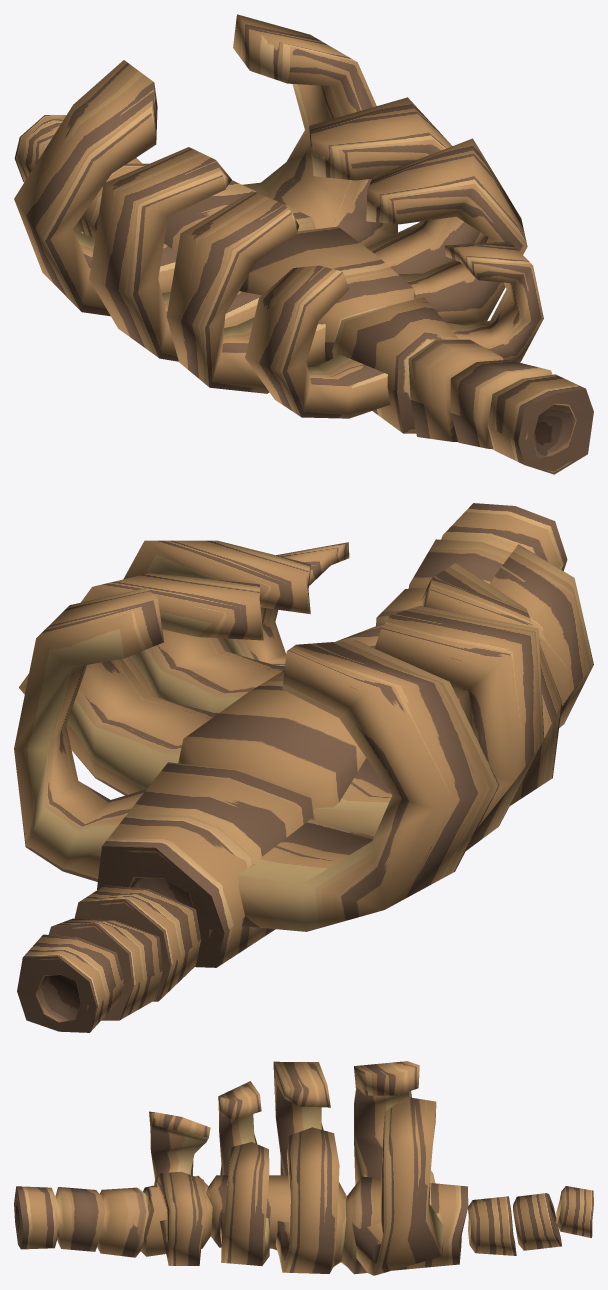
Rendered from SM_PROP_skeleton_ribs_dungeon_01.fbx.
3 renders of one model, top to bottom at view 1: azimuth 30°, elevation 25°; view 2: azimuth 150°, elevation 25°; view 3: azimuth 270°, elevation 25°, orthographic. The views are drawn at different scales.
Parts seen in each view (by area): view 1: SM_PROP_skeleton_ribs_dungeon_01; view 2: SM_PROP_skeleton_ribs_dungeon_01; view 3: SM_PROP_skeleton_ribs_dungeon_01.
Part boxes in pixels (box(x1,y1,x2,y2)): SM_PROP_skeleton_ribs_dungeon_01: box(14, 14, 593, 474); SM_PROP_skeleton_ribs_dungeon_01: box(14, 503, 593, 1032); SM_PROP_skeleton_ribs_dungeon_01: box(14, 1061, 593, 1275).
Bounding box in the file's own units: 31.04 × 20.23 × 58.25.
